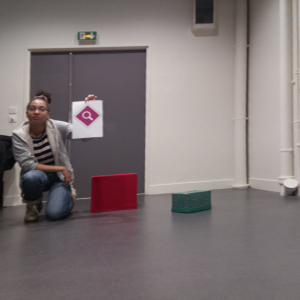search: (73, 104, 100, 127)
